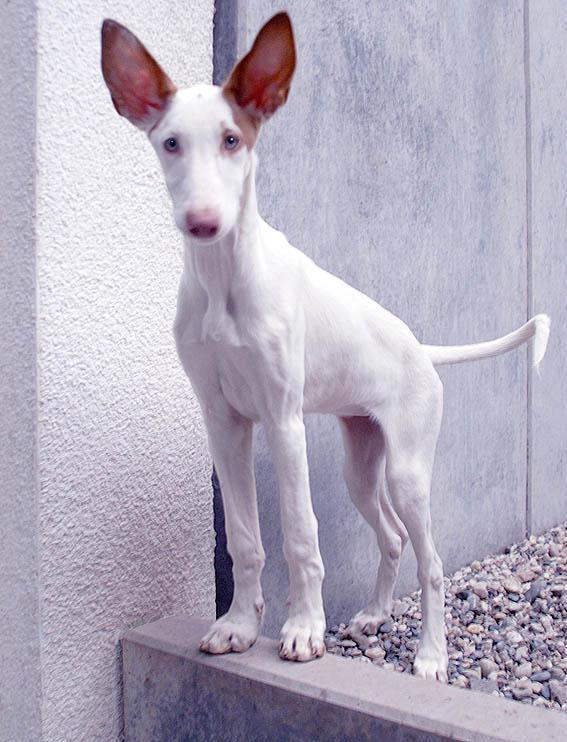Ibizan_hound: (98, 13, 552, 680)
